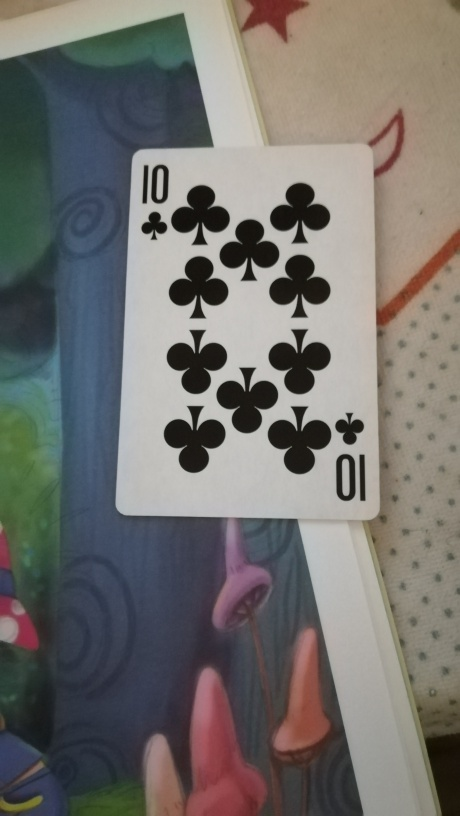mh 10: (112, 144, 381, 519)
